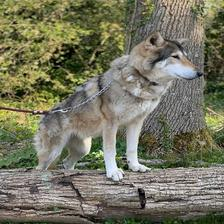WOLF: (35, 29, 205, 183)
